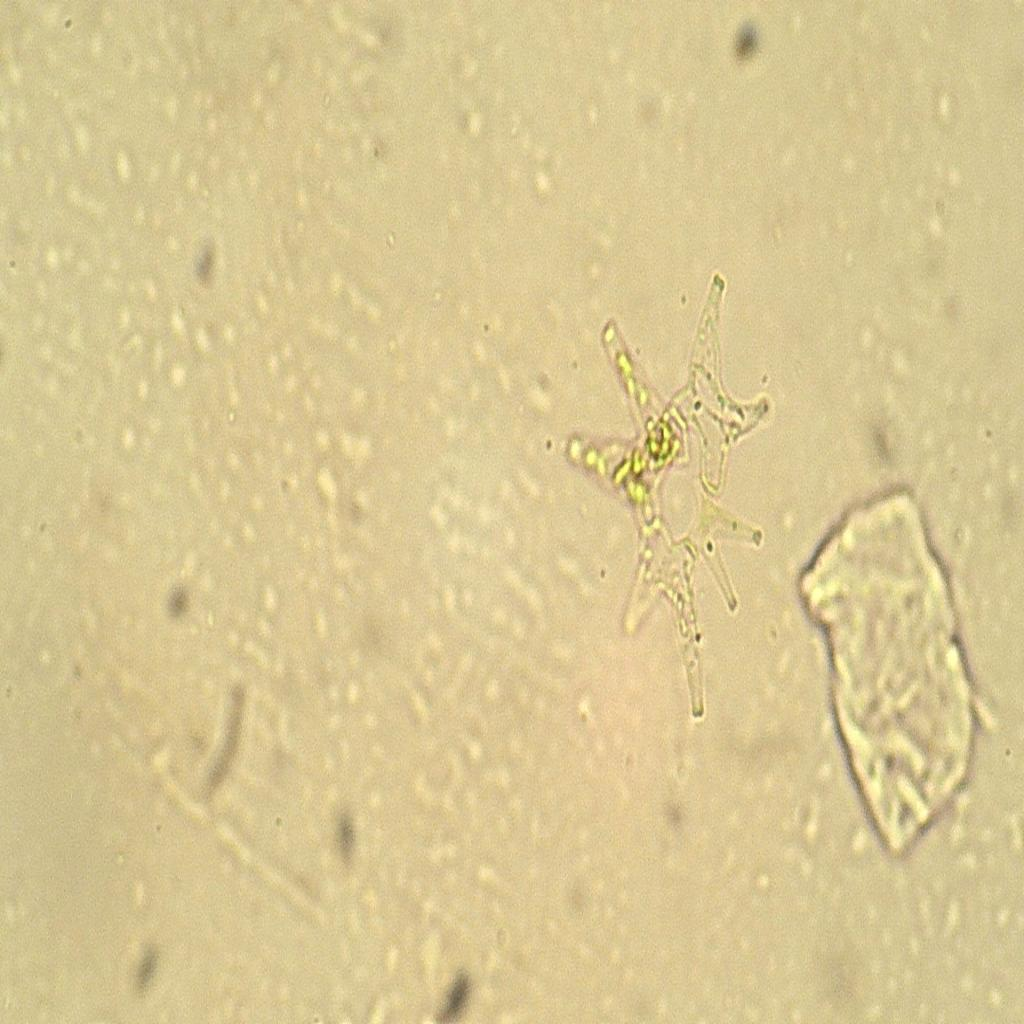Pediastrum_1F0: (558, 237, 786, 741)
